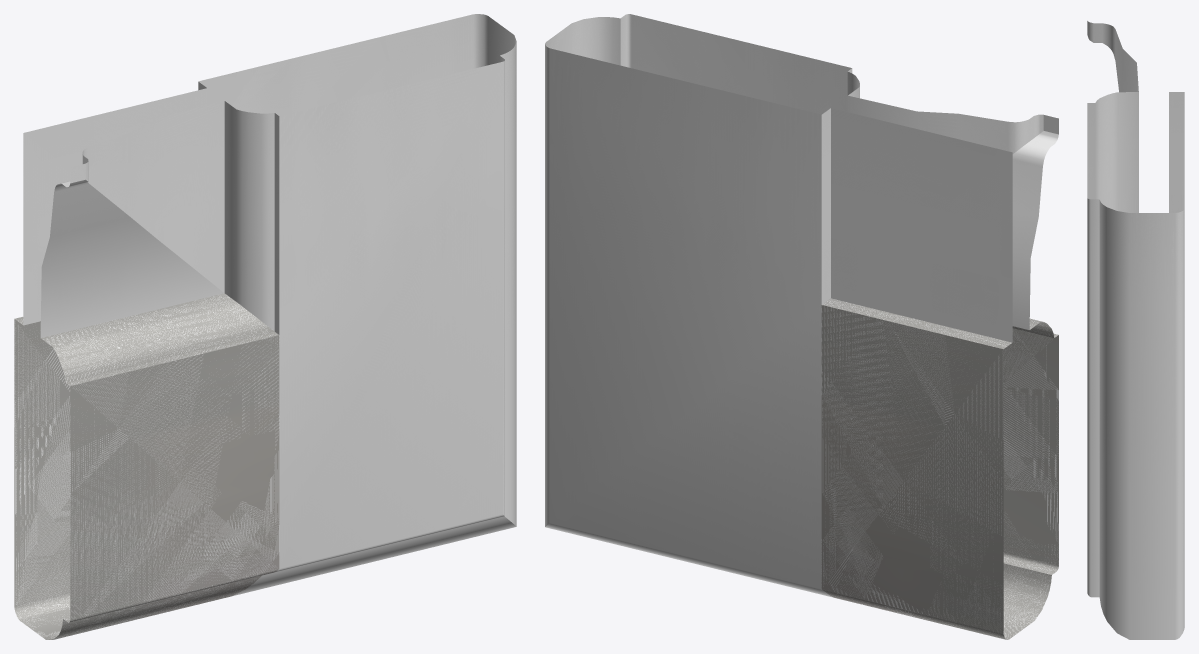
File: original-50.obj
The picture shows the model from 3 angles, left to right: view 1: azimuth 30°, elevation 25°; view 2: azimuth 150°, elevation 25°; view 3: azimuth 270°, elevation 25°; orthographic projection. The views are drawn at different scales.
Parts seen in each view (by area): view 1: RT_11_BR1/RT_11_BR/mesh36/mesh36-geometry#mesh36-geometry; view 2: RT_11_BR1/RT_11_BR/mesh36/mesh36-geometry#mesh36-geometry; view 3: RT_11_BR1/RT_11_BR/mesh36/mesh36-geometry#mesh36-geometry.
Part boxes in pixels (box(x1,y1,x2,y2)): RT_11_BR1/RT_11_BR/mesh36/mesh36-geometry#mesh36-geometry: box(14, 14, 516, 639); RT_11_BR1/RT_11_BR/mesh36/mesh36-geometry#mesh36-geometry: box(545, 14, 1058, 639); RT_11_BR1/RT_11_BR/mesh36/mesh36-geometry#mesh36-geometry: box(1087, 21, 1184, 639).
Bounding box in the file's own units: 0.1671 × 0.1671 × 0.0346.
